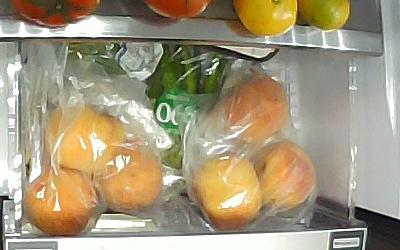peach_vinyl: (46, 103, 126, 173), (94, 139, 162, 214), (196, 152, 262, 228), (21, 168, 93, 236), (251, 139, 316, 214), (224, 75, 288, 143)
